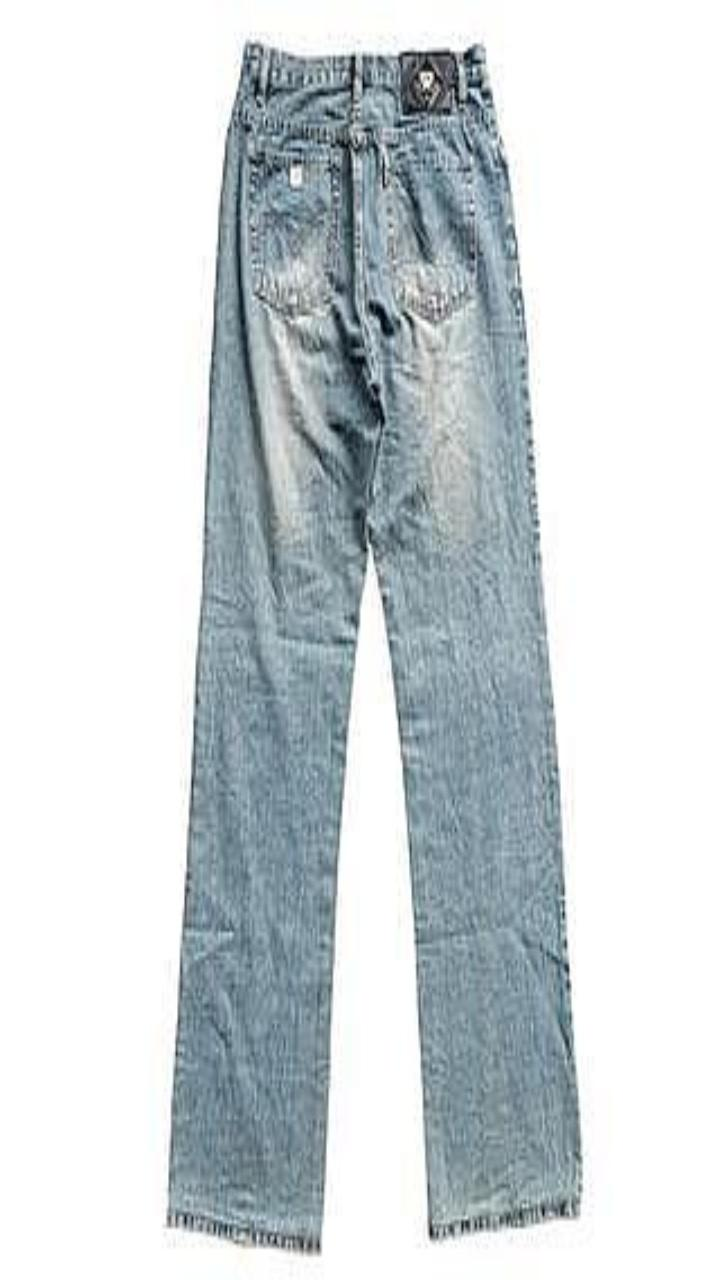Jeans: (167, 41, 580, 1251)
